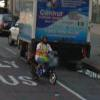Motorcycle: (29, 54, 60, 86)
